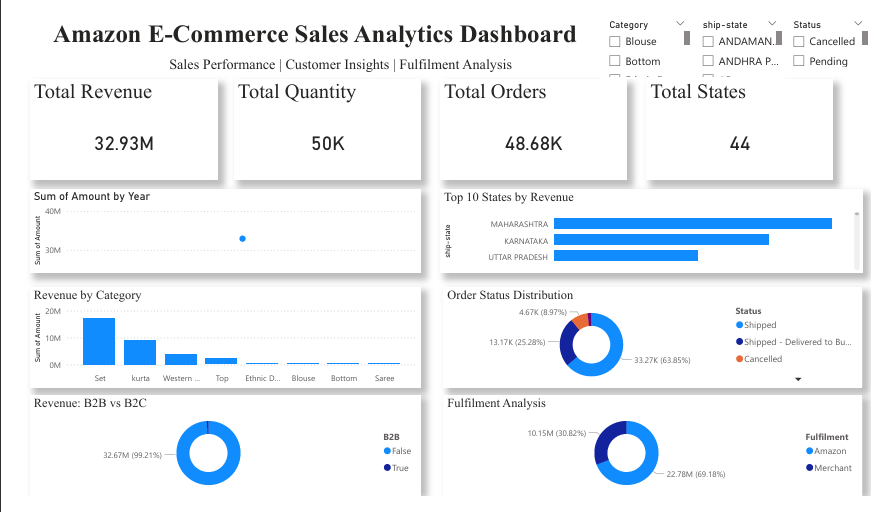

The dashboard page shown, as its layout file describes it:
{"tool":"powerbi","page":{"name":"Overview Dashboard","canvas":[1280,720],"ordinal":0},"visuals":[{"type":"textbox","box":[48.7,0,831.5,80.6],"z":0},{"type":"textbox","box":[223.4,55.4,530.8,79],"z":1000},{"type":"card","title":"Total Revenue","fields":{"Values":["Sum(amazon_sales_db amazon sale report.Amount)"]},"box":[20.2,95.7,280.5,151.2],"z":2000},{"type":"card","title":"Total Orders","fields":{"Values":["Count(amazon_sales_db amazon sale report.Order ID)"]},"box":[635,95.7,278.8,151.2],"z":3000},{"type":"card","title":"Total Quantity","fields":{"Values":["Sum(amazon_sales_db amazon sale report.Qty)"]},"box":[325.9,95.7,278.8,151.2],"z":4000},{"type":"card","title":"Total States","fields":{"Values":["Count(amazon_sales_db amazon sale report.ship-state)"]},"box":[944,95.7,278.8,151.2],"z":5000},{"type":"clusteredColumnChart","title":"Revenue by Category","fields":{"Category":["amazon_sales_db amazon sale report.Category"],"Y":["Sum(amazon_sales_db amazon sale report.Amount)"]},"box":[20.2,406.5,584.6,151.2],"z":6000},{"type":"clusteredBarChart","title":"Top 10 States by Revenue","fields":{"Category":["amazon_sales_db amazon sale report.ship-state"],"Y":["Sum(amazon_sales_db amazon sale report.Amount)"]},"box":[635,260.4,633.3,126],"z":7000},{"type":"donutChart","title":"Order Status Distribution","fields":{"Category":["amazon_sales_db amazon sale report.Status"],"Y":["CountNonNull(amazon_sales_db amazon sale report.Order ID)"]},"box":[640,406.5,628.2,151.2],"z":8000},{"type":"donutChart","title":"Fulfilment Analysis","fields":{"Category":["amazon_sales_db amazon sale report.Fulfilment"],"Y":["Sum(amazon_sales_db amazon sale report.Amount)"]},"box":[640,569.4,628.2,151.2],"z":9000},{"type":"lineChart","fields":{"Category":["amazon_sales_db amazon sale report.Date.Variation.Date Hierarchy.Year","amazon_sales_db amazon sale report.Date.Variation.Date Hierarchy.Quarter","amazon_sales_db amazon sale report.Date.Variation.Date Hierarchy.Month","amazon_sales_db amazon sale report.Date.Variation.Date Hierarchy.Day"],"Y":["Sum(amazon_sales_db amazon sale report.Amount)"]},"box":[20.2,260.4,584.6,126],"z":10000},{"type":"donutChart","title":"Revenue: B2B vs B2C","fields":{"Category":["amazon_sales_db amazon sale report.B2B"],"Y":["Sum(amazon_sales_db amazon sale report.Amount)"]},"box":[20.2,569.4,584.6,151.2],"z":11000},{"type":"slicer","fields":{"Values":["amazon_sales_db amazon sale report.Category"]},"box":[875.2,0,137.7,95.7],"z":12000},{"type":"slicer","fields":{"Values":["amazon_sales_db amazon sale report.ship-state"]},"box":[1014.6,0,136.1,95.7],"z":13000},{"type":"slicer","fields":{"Values":["amazon_sales_db amazon sale report.Status"]},"box":[1150.7,0,129.3,80.6],"z":14000}]}

Visuals, with their boxes in screenshot pixels (x1, y1, x2, y2), scaled from the page's 1280x720 canvas onto the 888x512 screenshot:
textbox: rect(34, 0, 611, 57)
textbox: rect(155, 39, 523, 96)
"Total Revenue" card: rect(14, 68, 209, 176)
"Total Orders" card: rect(441, 68, 634, 176)
"Total Quantity" card: rect(226, 68, 420, 176)
"Total States" card: rect(655, 68, 848, 176)
"Revenue by Category" clusteredColumnChart: rect(14, 289, 420, 397)
"Top 10 States by Revenue" clusteredBarChart: rect(441, 185, 880, 275)
"Order Status Distribution" donutChart: rect(444, 289, 880, 397)
"Fulfilment Analysis" donutChart: rect(444, 405, 880, 511)
lineChart - amazon_sales_db amazon sale report.Date.Variation.Date Hierarchy.Year x amazon_sales_db amazon sale report.Date.Variation.Date Hierarchy.Quarter: rect(14, 185, 420, 275)
"Revenue: B2B vs B2C" donutChart: rect(14, 405, 420, 511)
slicer - amazon_sales_db amazon sale report.Category: rect(607, 0, 703, 68)
slicer - amazon_sales_db amazon sale report.ship-state: rect(704, 0, 798, 68)
slicer - amazon_sales_db amazon sale report.Status: rect(798, 0, 887, 57)
